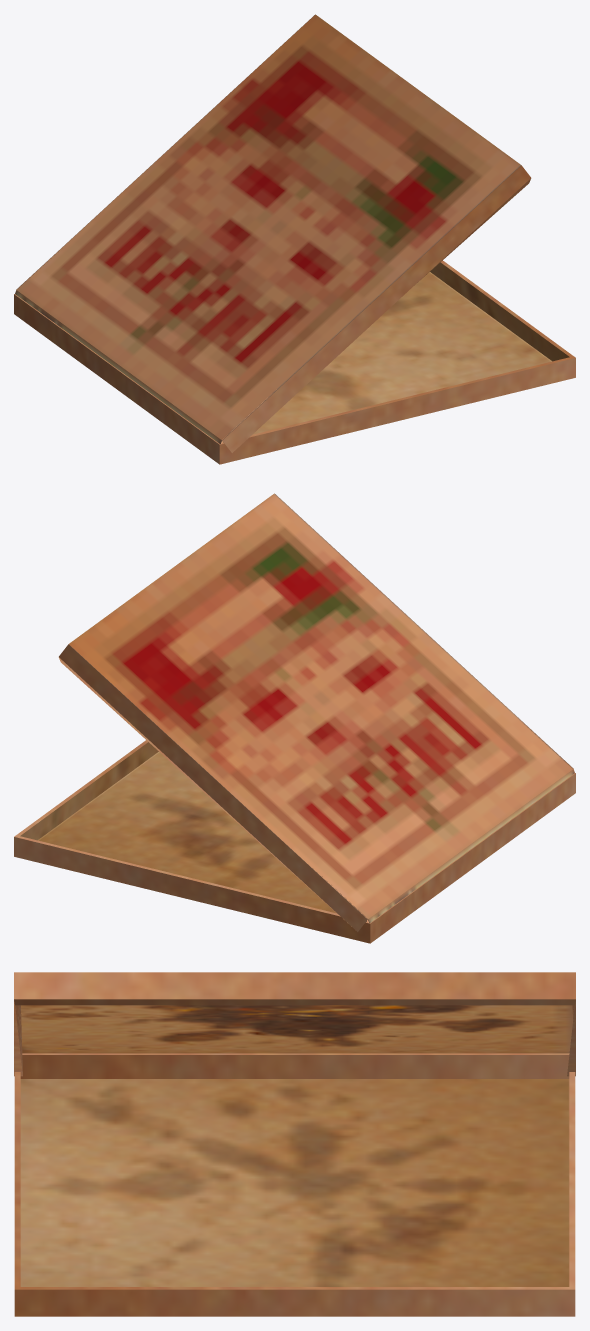
Rendered from pizza_box_semi_close_empty.obj.
3 views of the same model, one above another, from view 1: azimuth 30°, elevation 25°; view 2: azimuth 150°, elevation 25°; view 3: azimuth 270°, elevation 25° (orthographic). The views are drawn at different scales.
Visible parts, largest first — view 1: pizza_box_semi_close_empty; view 2: pizza_box_semi_close_empty; view 3: pizza_box_semi_close_empty.
Boxes of the visible parts, bbox=[...] form: pizza_box_semi_close_empty: bbox=[14, 14, 575, 464]; pizza_box_semi_close_empty: bbox=[14, 493, 575, 943]; pizza_box_semi_close_empty: bbox=[14, 972, 575, 1316].
Bounding box in the file's own units: 0.5276 × 0.3198 × 0.5286.
